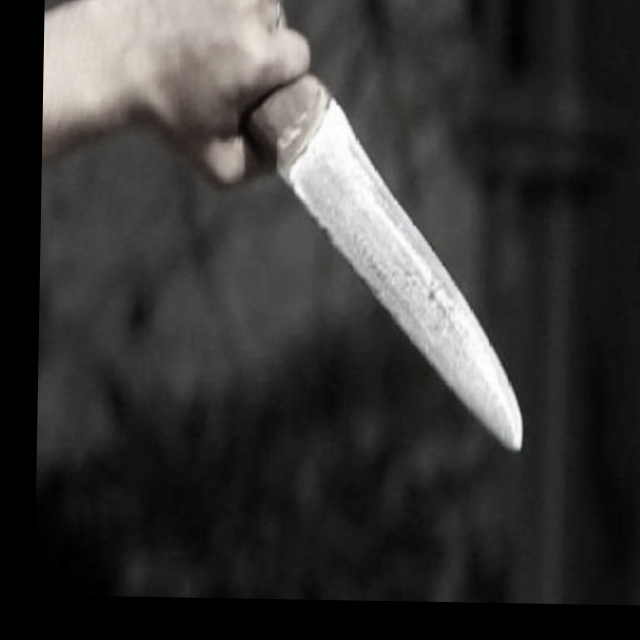Sharp-Object: (232, 69, 530, 455)
